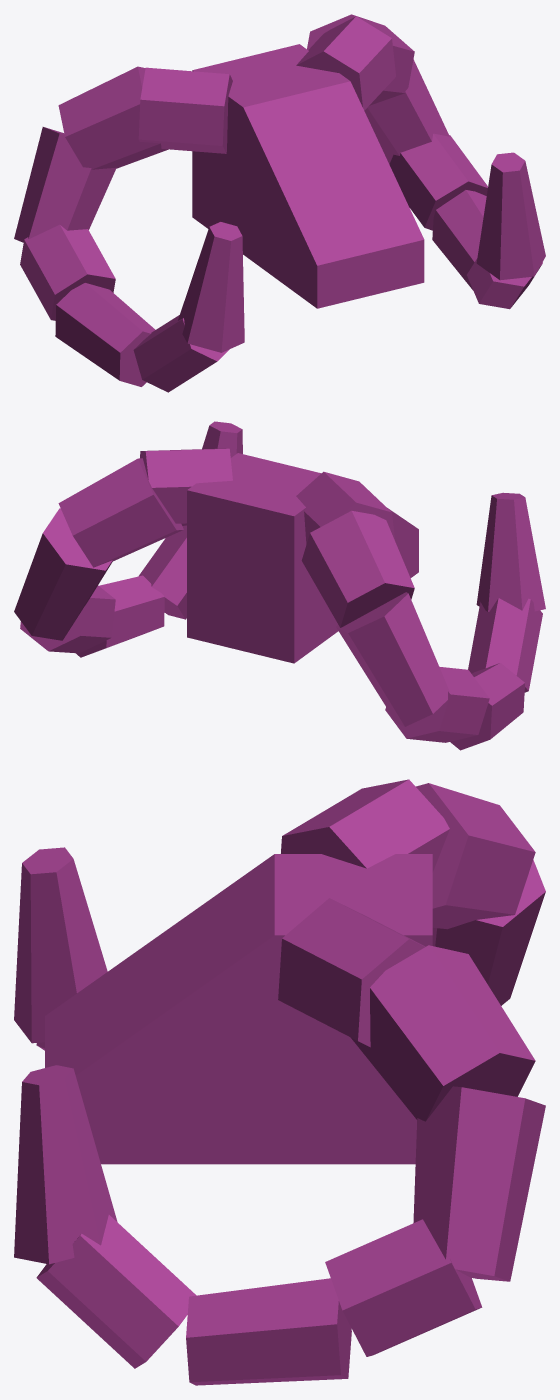
The model's file is SM_Env_Bones_03_Collision.fbx.
3 views of the same model, one above another, from view 1: azimuth 30°, elevation 25°; view 2: azimuth 150°, elevation 25°; view 3: azimuth 270°, elevation 25° (orthographic). The views are drawn at different scales.
Visible parts, largest first — view 1: SM_Env_Bones_03_Collision; view 2: SM_Env_Bones_03_Collision; view 3: SM_Env_Bones_03_Collision.
Part boxes in pixels (x1,y1,x2,y2): SM_Env_Bones_03_Collision: [14, 14, 545, 392]; SM_Env_Bones_03_Collision: [14, 421, 545, 750]; SM_Env_Bones_03_Collision: [14, 779, 545, 1385].
Size of the model in its own units: 369 by 204 by 251.
